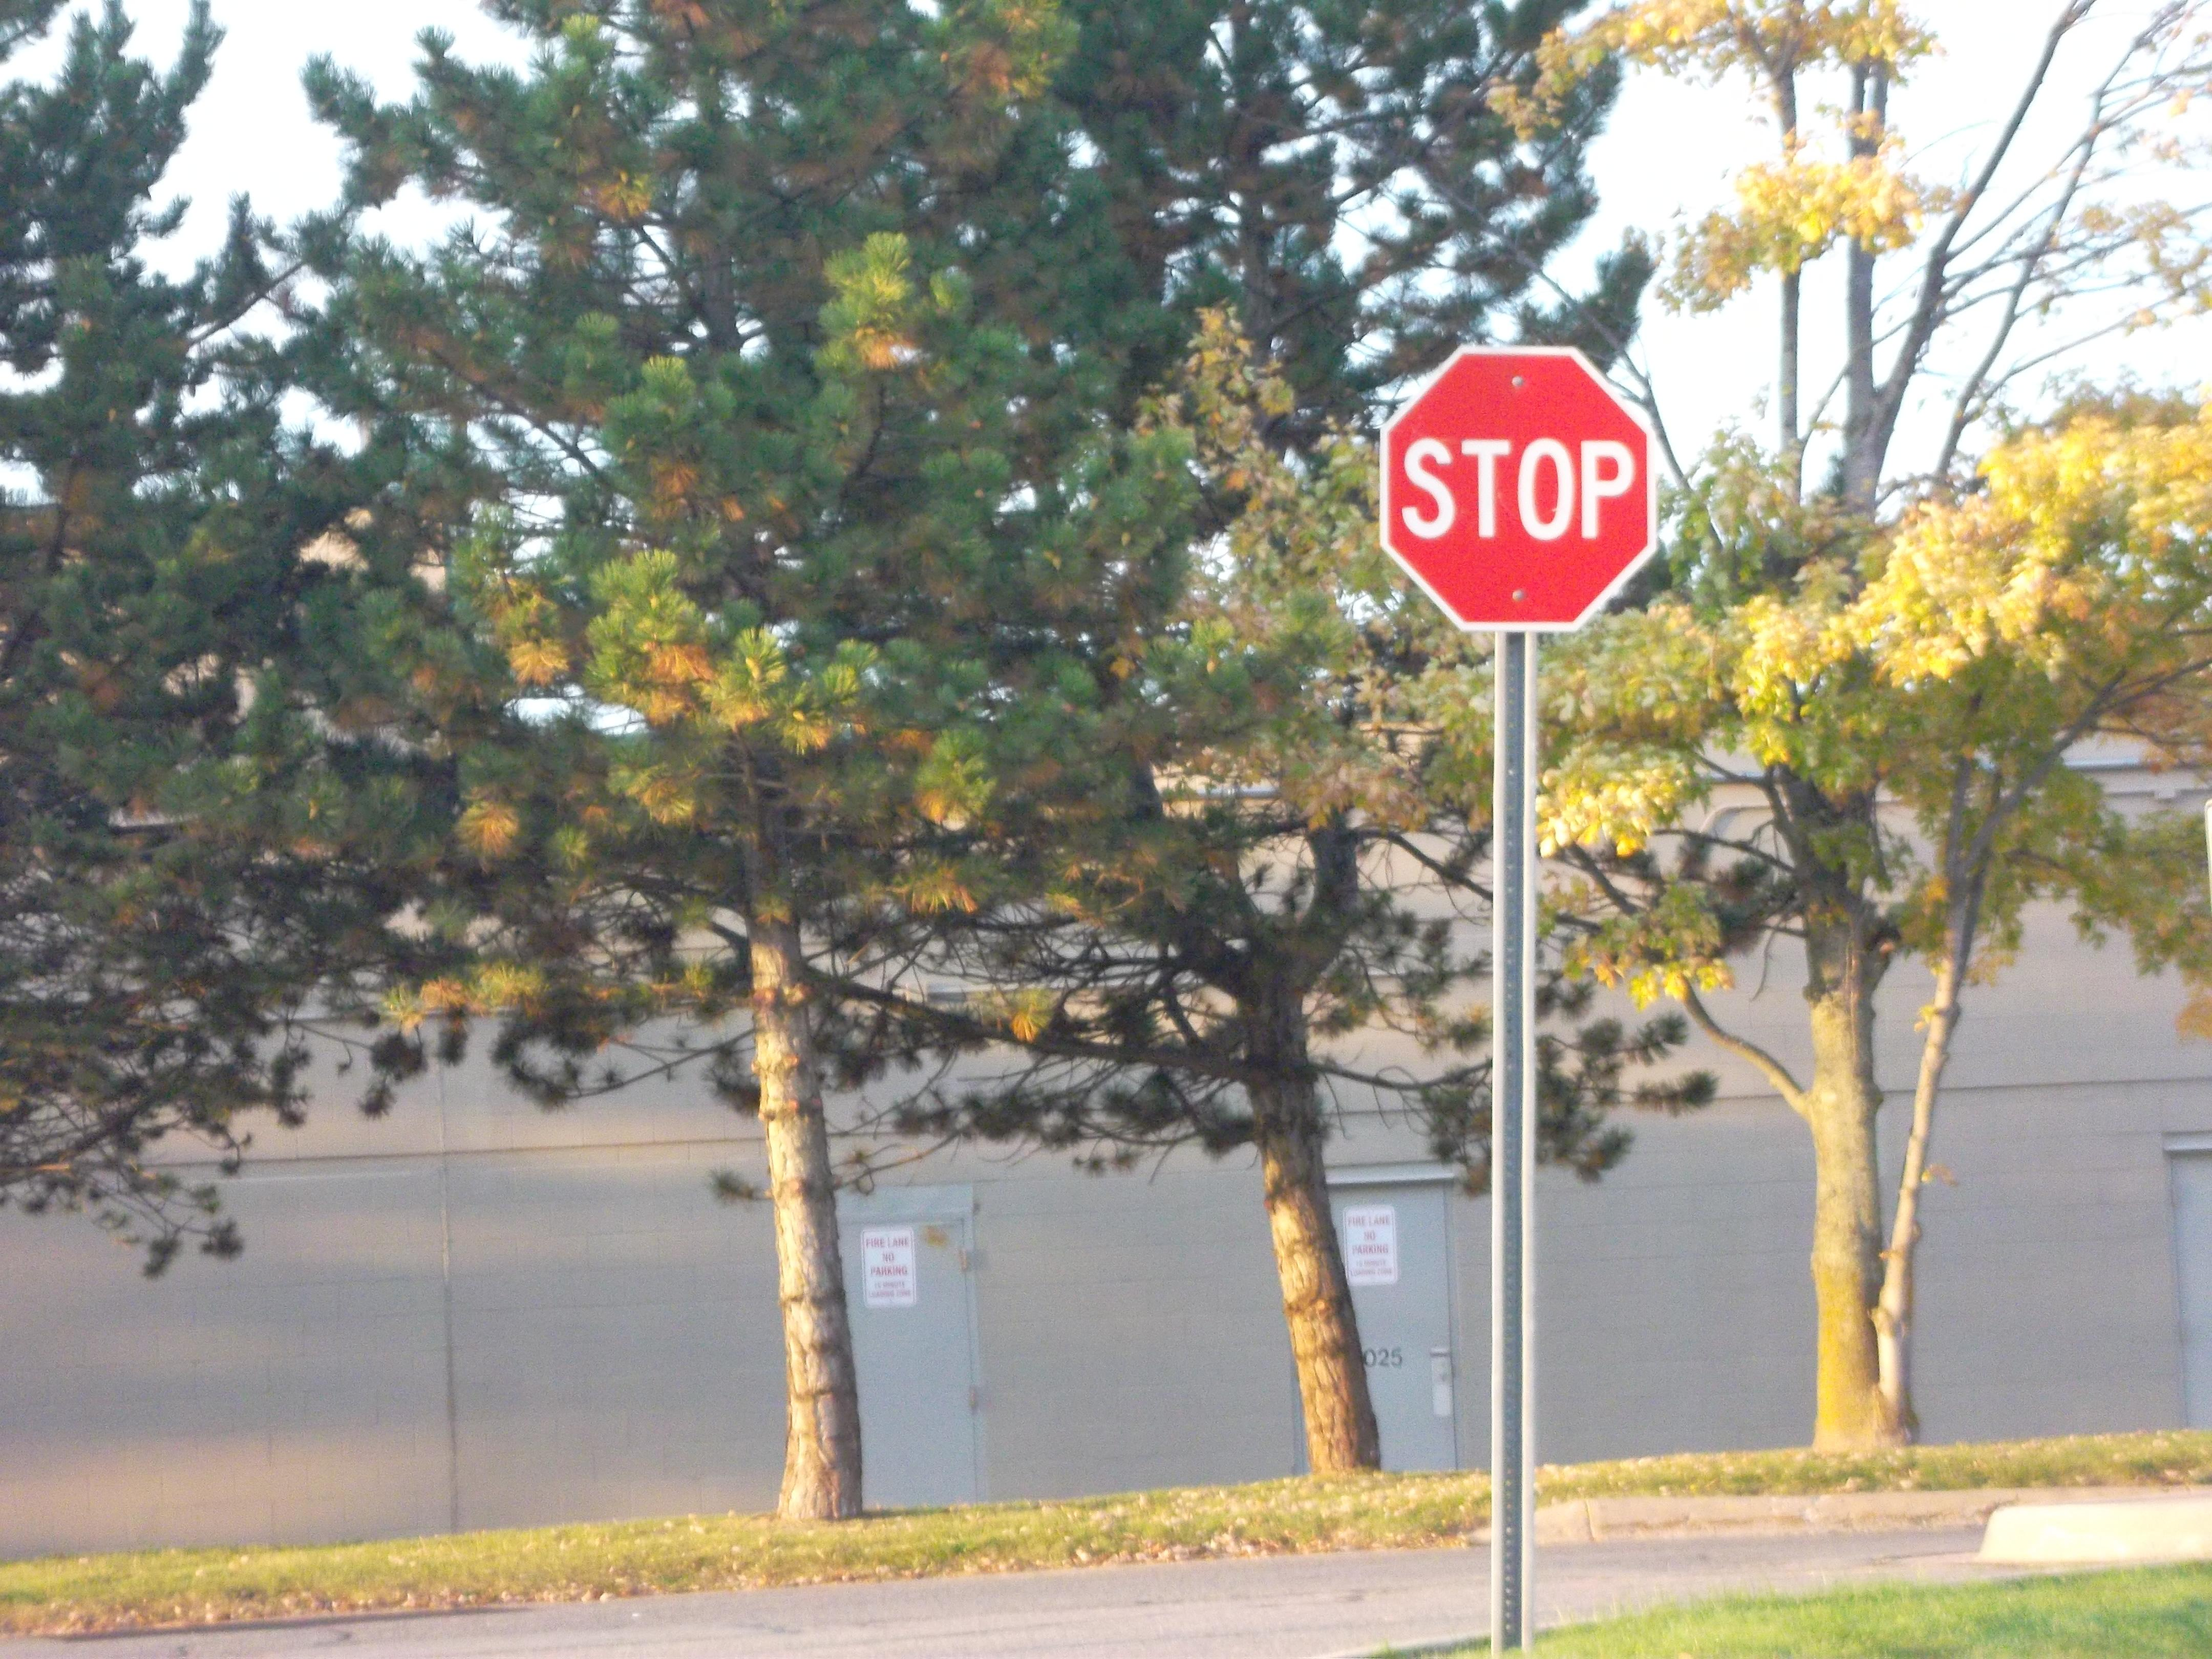stop: (1381, 345, 1663, 634)
